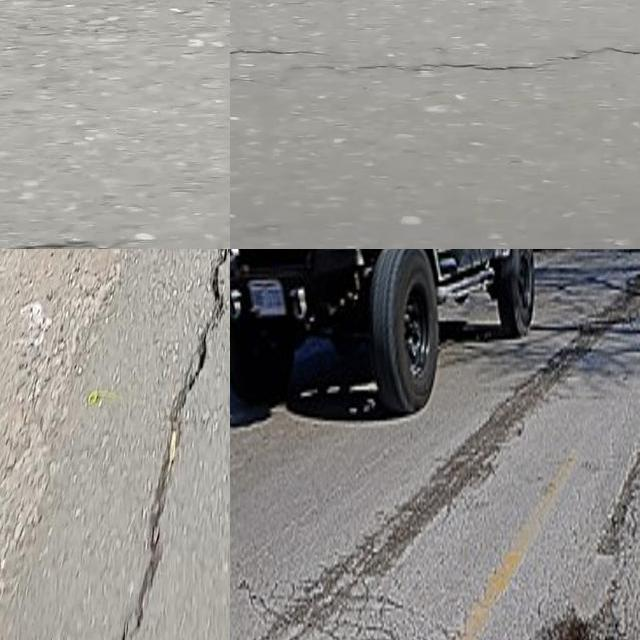Melintang: (230, 37, 640, 83)
Memanjang: (98, 249, 230, 640)
